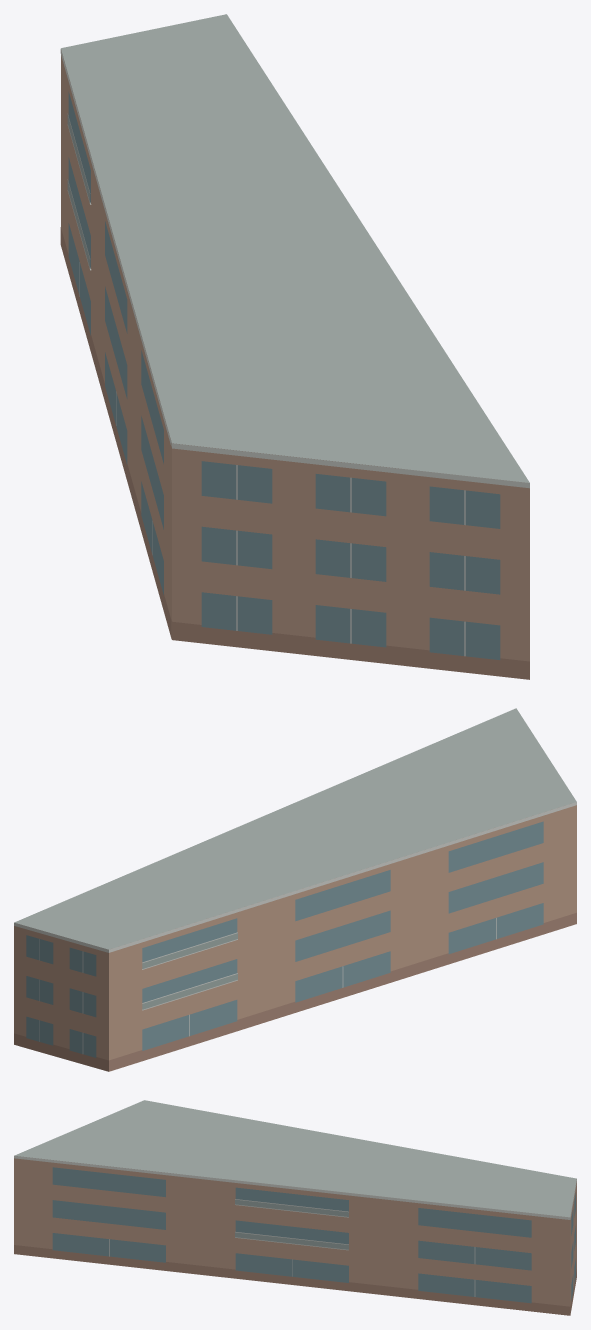
Rendered from survey-upis-32473617.glb.
The picture shows the model from 3 angles, top to bottom: view 1: azimuth 30°, elevation 25°; view 2: azimuth 150°, elevation 25°; view 3: azimuth 270°, elevation 25°; orthographic projection. The views are drawn at different scales.
Visible parts, largest first — view 1: survey-upis-32473617.tmp; view 2: survey-upis-32473617.tmp; view 3: survey-upis-32473617.tmp.
Boxes of the visible parts, left/top/right/bottom form: survey-upis-32473617.tmp: left=60, top=14, right=529, bottom=679; survey-upis-32473617.tmp: left=14, top=708, right=576, bottom=1071; survey-upis-32473617.tmp: left=14, top=1100, right=576, bottom=1315.
Bounding box in the file's own units: 23.41 × 9.15 × 47.46.
